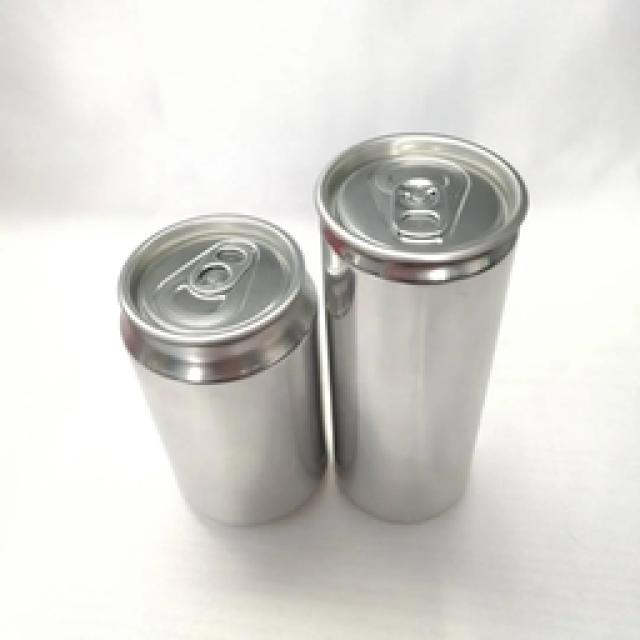aluminum_soda_cans: (314, 134, 544, 504), (98, 218, 332, 528)
